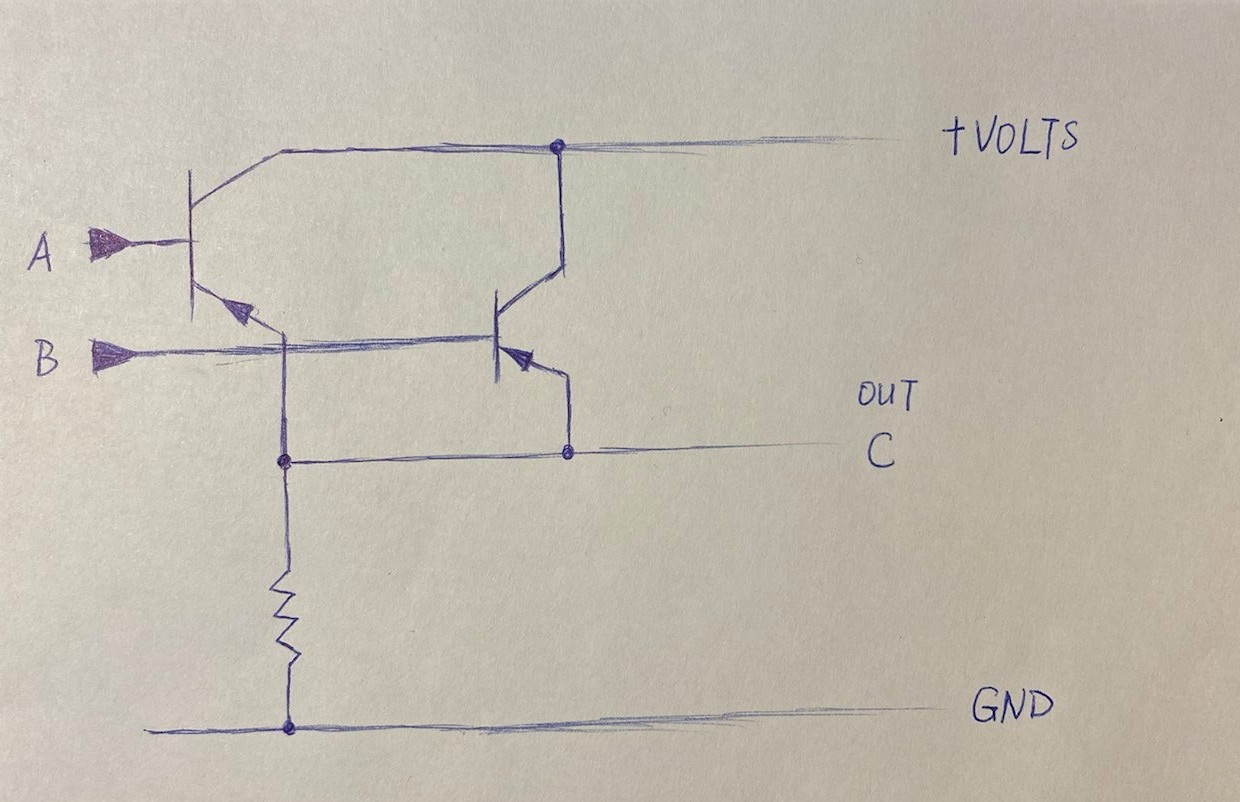crossover: (267, 337, 313, 369)
junction: (546, 435, 596, 474), (273, 708, 316, 746), (538, 129, 582, 164), (268, 445, 312, 479)
resistor: (261, 555, 320, 677)
terminal: (802, 124, 910, 160), (79, 218, 144, 266), (83, 333, 148, 376), (767, 426, 846, 456), (879, 692, 951, 723), (127, 709, 183, 746)
text: (973, 108, 1083, 163), (965, 681, 1060, 730), (852, 372, 922, 416), (865, 428, 904, 474), (23, 228, 58, 277), (30, 333, 60, 382), (940, 113, 967, 160)
transistor: (171, 142, 295, 335), (477, 258, 580, 387)
